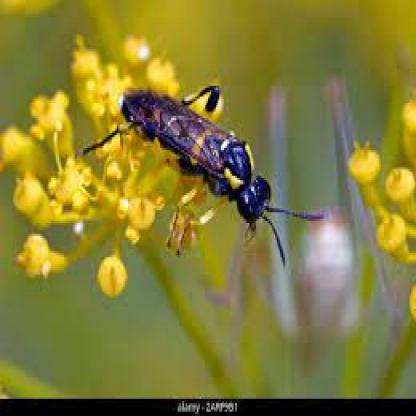sawfly: (91, 78, 328, 261)
